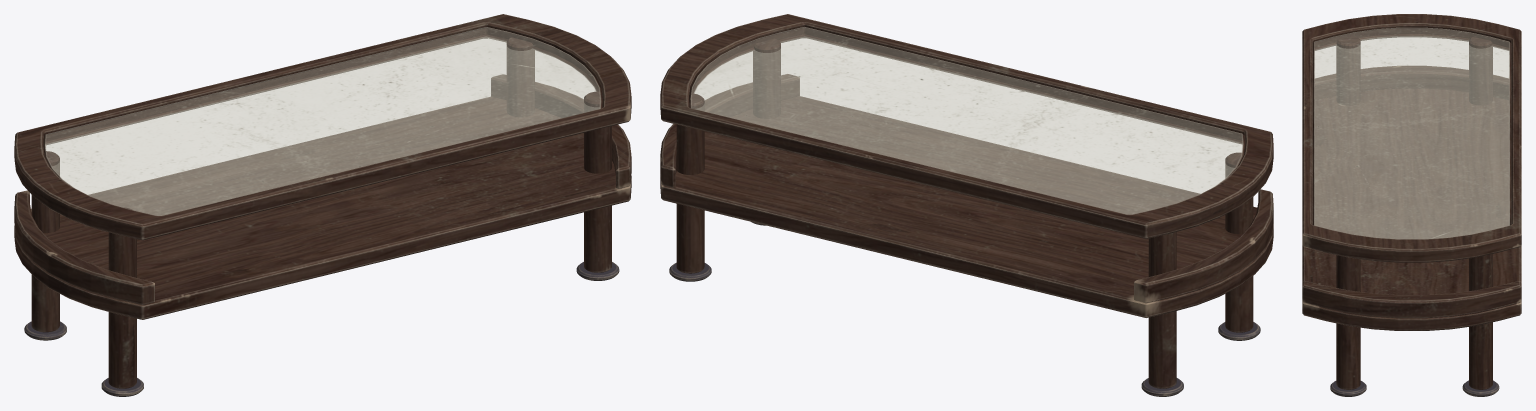
File: wooden_coffee_table.glb
The picture shows the model from 3 angles, left to right: view 1: azimuth 30°, elevation 25°; view 2: azimuth 150°, elevation 25°; view 3: azimuth 270°, elevation 25°; orthographic projection. The views are drawn at different scales.
Visible parts, largest first — view 1: pCube10; view 2: pCube10; view 3: pCube10.
Boxes of the visible parts, x1=… form: pCube10: x1=14, y1=14, x2=631, y2=396; pCube10: x1=660, y1=14, x2=1273, y2=396; pCube10: x1=1302, y1=14, x2=1521, y2=396.
Size of the model in its own units: 6.08 by 1.9 by 2.38.
Materials: 1 (1 with a texture image).
